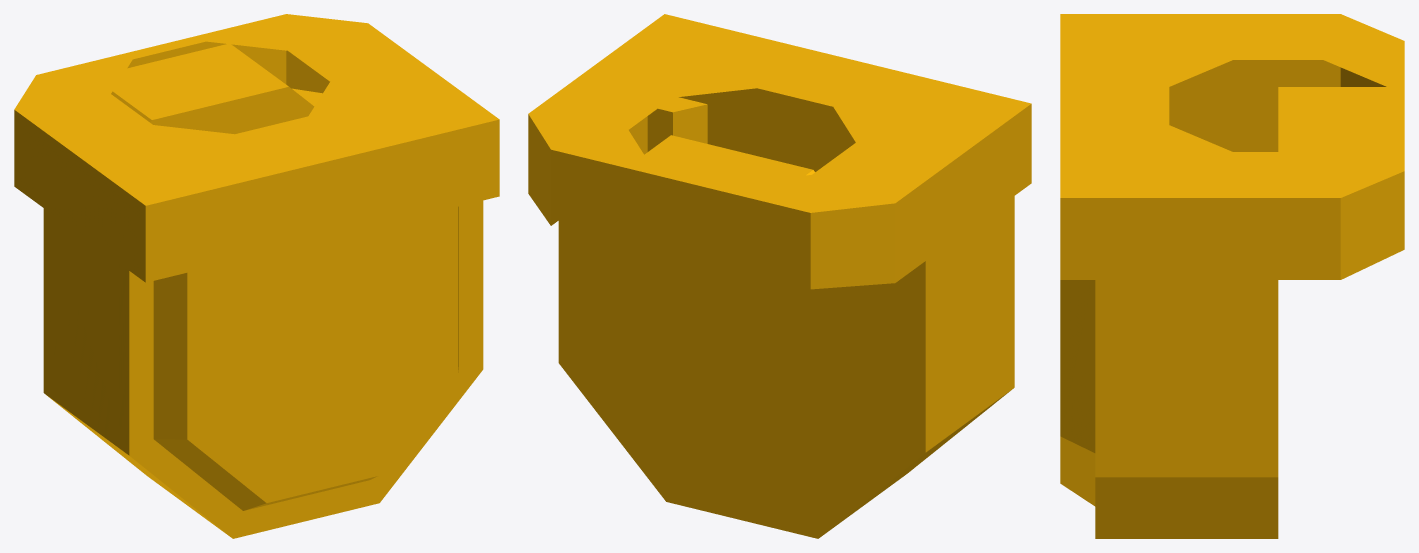
The model's file is epe_robotic_hinge_small_b.dae.
The picture shows the model from 3 angles, left to right: view 1: azimuth 30°, elevation 25°; view 2: azimuth 150°, elevation 25°; view 3: azimuth 270°, elevation 25°; orthographic projection. The views are drawn at different scales.
Visible parts, largest first — view 1: small_robotic_hinge_b; view 2: small_robotic_hinge_b; view 3: small_robotic_hinge_b.
Boxes of the visible parts, bbox=[...] form: small_robotic_hinge_b: bbox=[14, 14, 499, 538]; small_robotic_hinge_b: bbox=[528, 14, 1031, 538]; small_robotic_hinge_b: bbox=[1060, 14, 1404, 538].
Bounding box in the file's own units: 0.25 × 0.1975 × 0.25.
